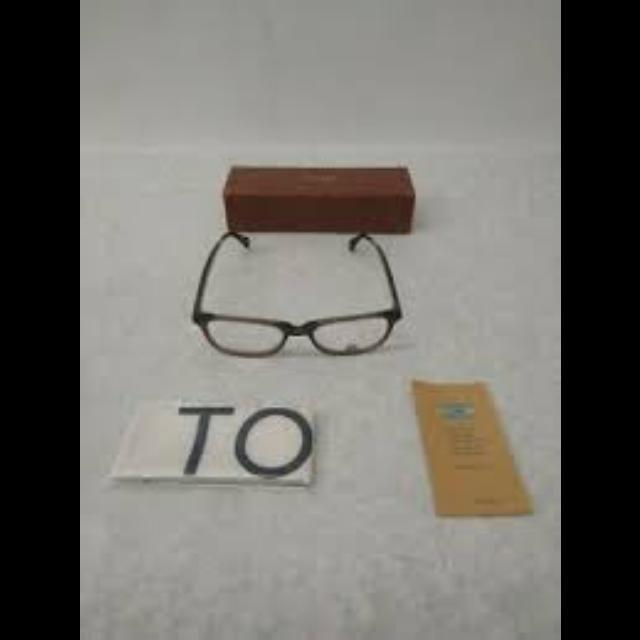mask: (193, 231, 403, 355)
